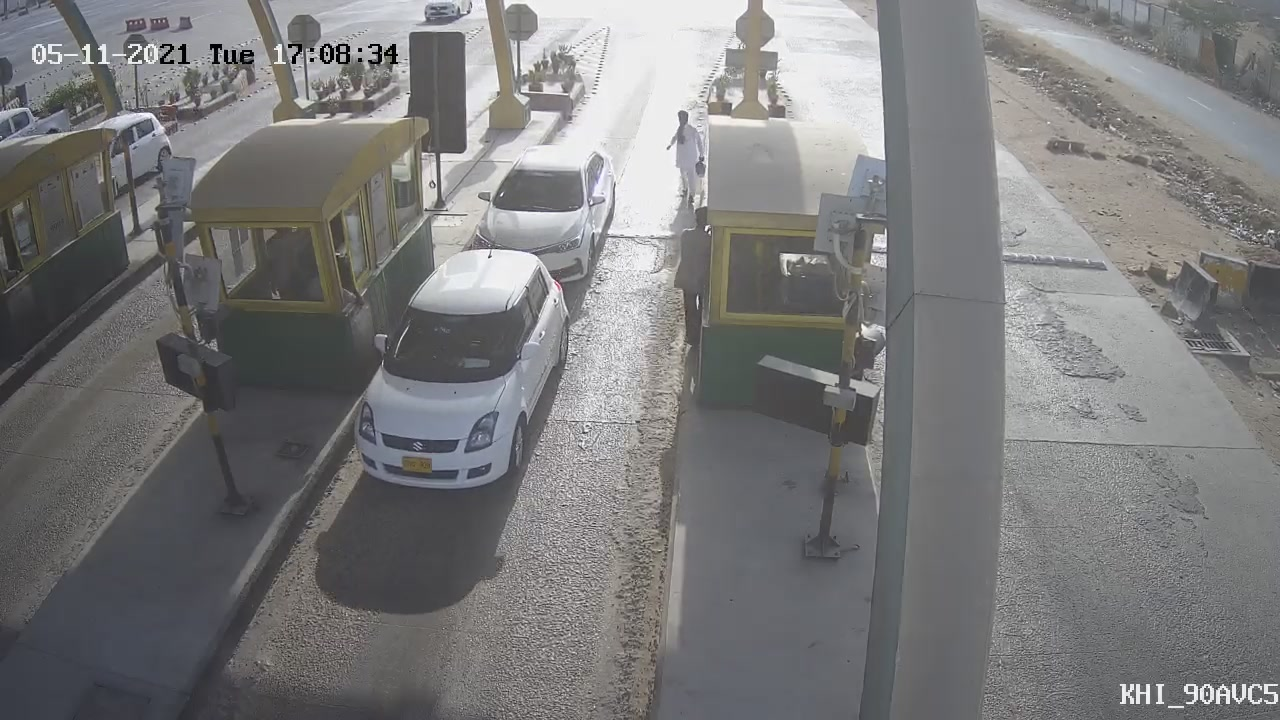F1: (327, 226, 598, 516), (459, 133, 637, 304)
